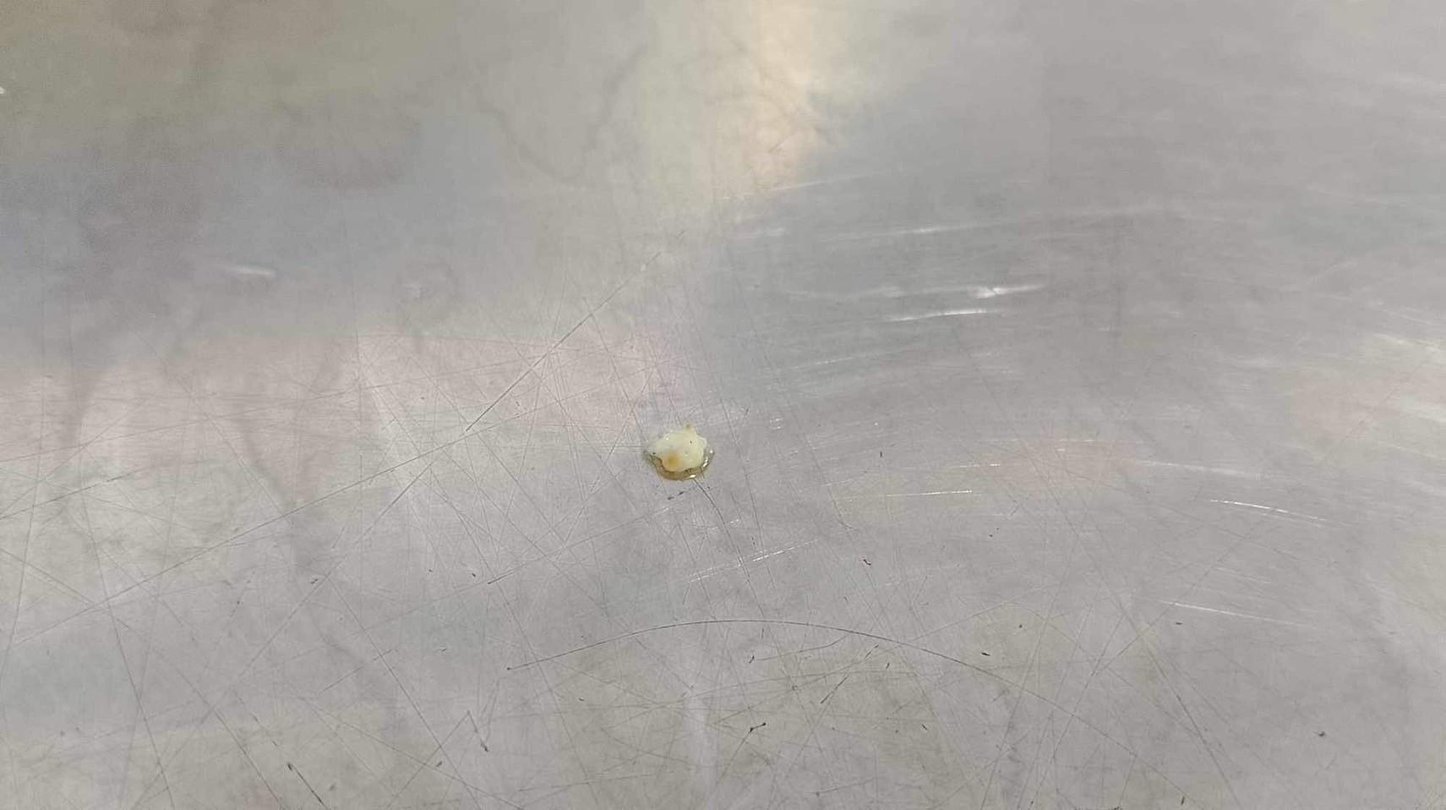General: (4, 6, 1439, 806)
Infectious: (642, 424, 713, 479)
